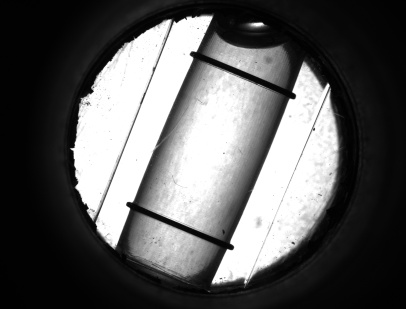line: (208, 54, 277, 93), (144, 204, 208, 243)
